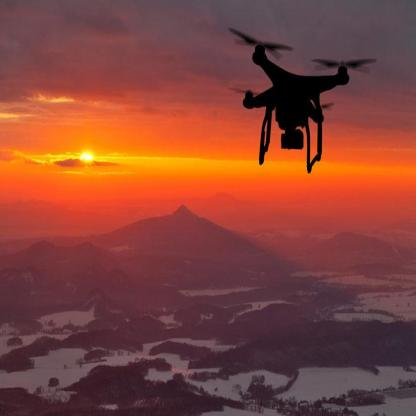drone: (220, 27, 374, 172)
